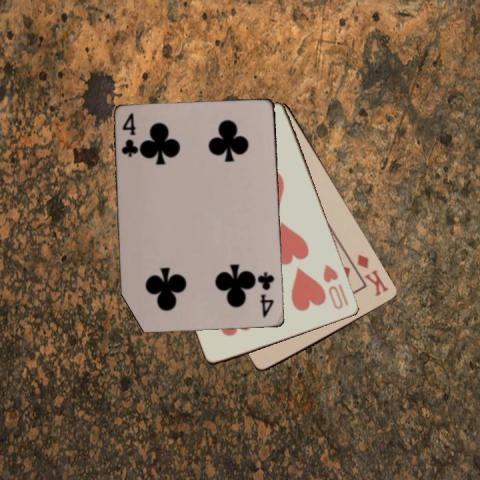10h: (320, 262, 351, 312)
4c: (256, 269, 276, 319), (119, 110, 139, 159)
Kd: (354, 251, 390, 298)
